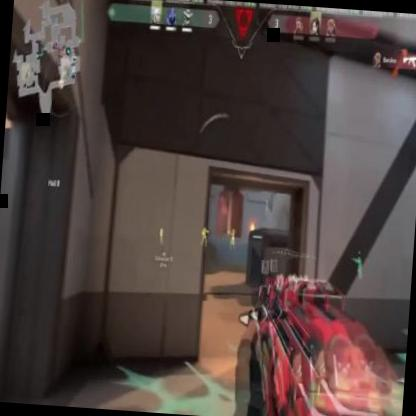enemy: (201, 226, 210, 246), (230, 228, 236, 252), (159, 227, 164, 243)
enemy_head: (232, 228, 235, 233), (161, 228, 163, 232), (204, 226, 206, 230)
